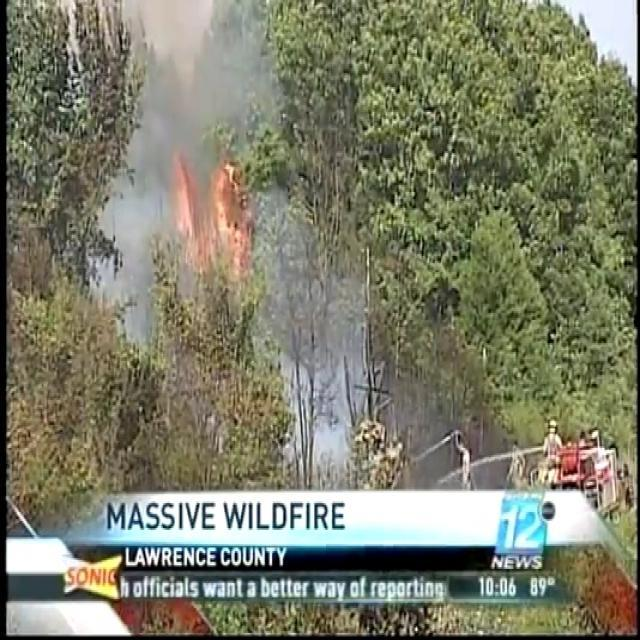Smoke: (96, 0, 264, 338), (271, 288, 376, 479)
